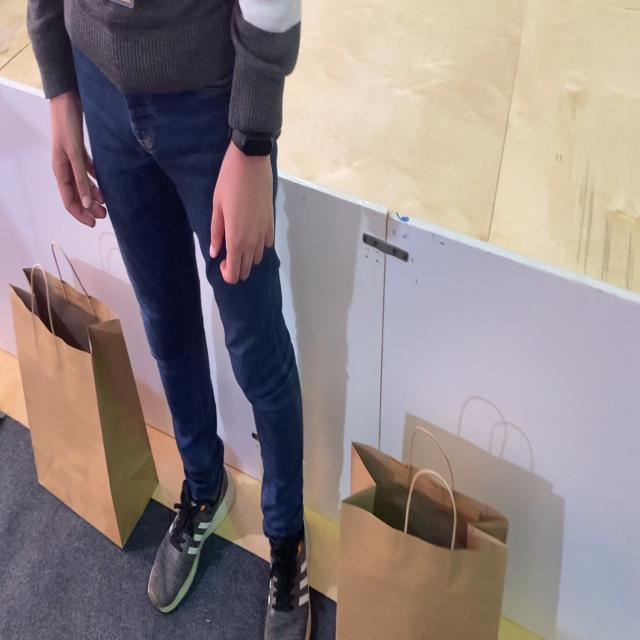Paper_Bag: (8, 241, 160, 548), (334, 425, 509, 640)
